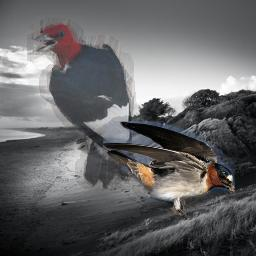Swallow: (103, 121, 235, 220)
Woodpecker: (27, 16, 149, 189)
